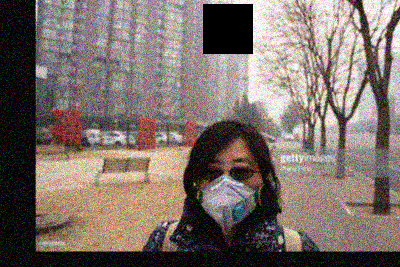with_mask: (196, 154, 262, 232)
